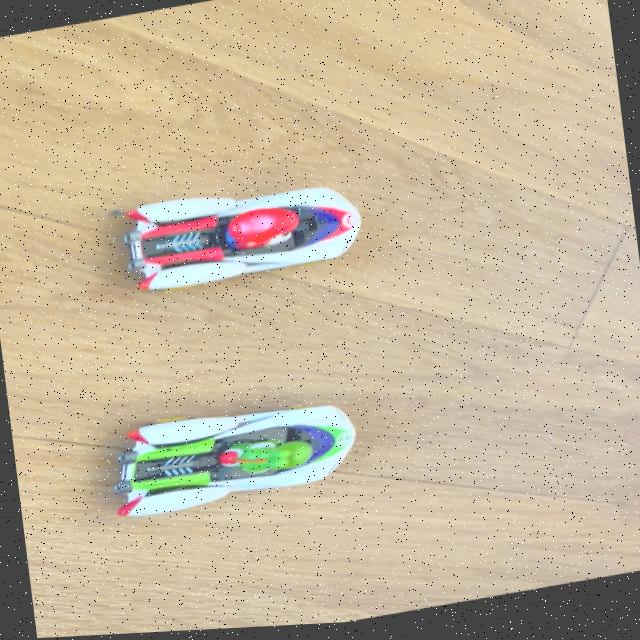mario: (92, 165, 391, 314)
yoshi: (96, 382, 386, 529)
